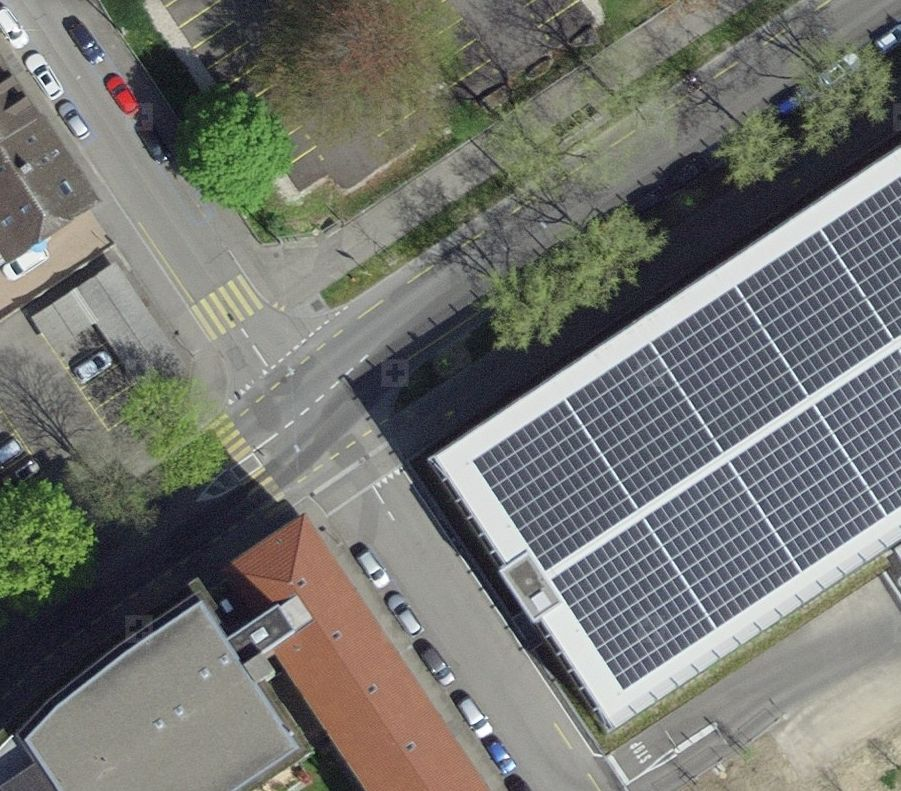solar: (473, 173, 901, 692)
